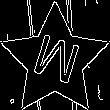M_S: (27, 30, 83, 92)
